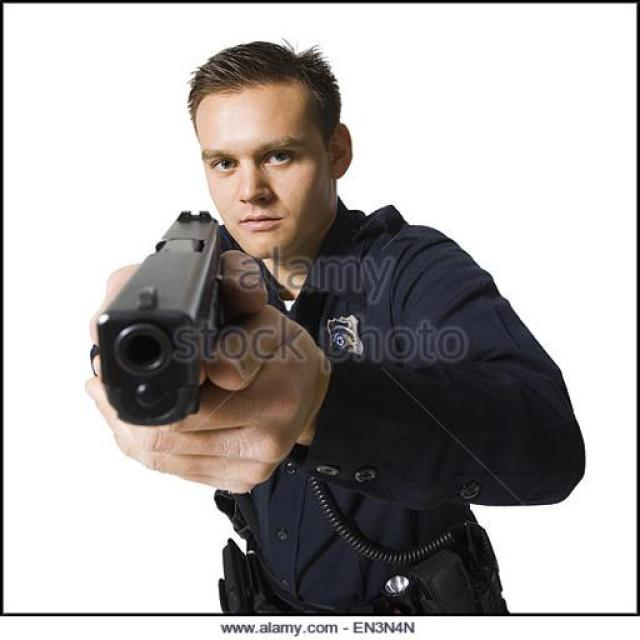pistol: (92, 208, 232, 419)
